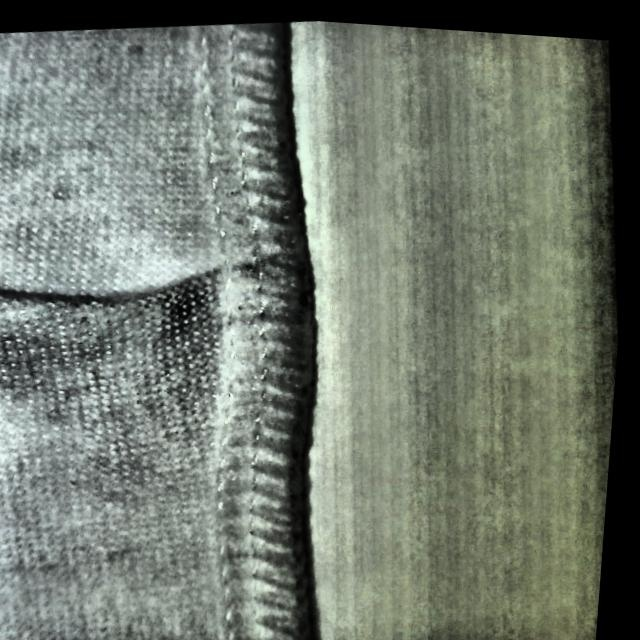seam: (1, 180, 334, 413)
